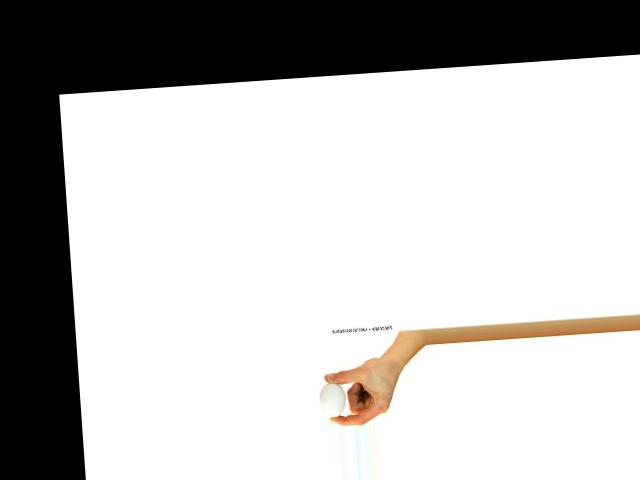egg: (320, 381, 347, 418)
